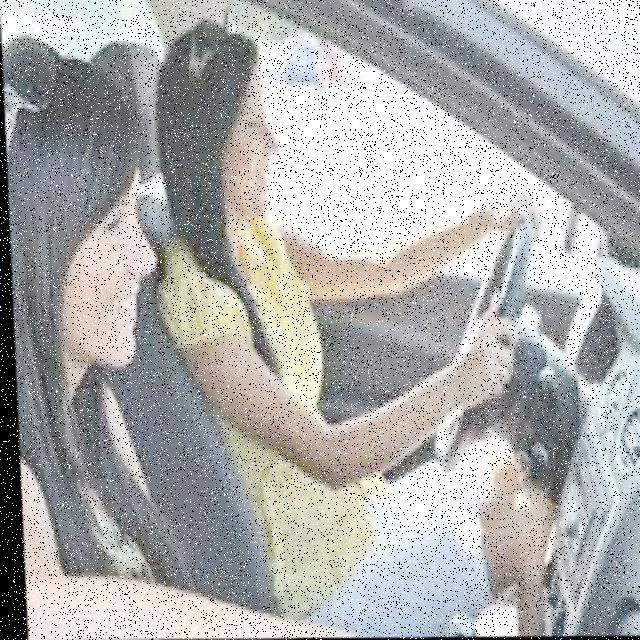noSeatbelt: (147, 152, 359, 592)
